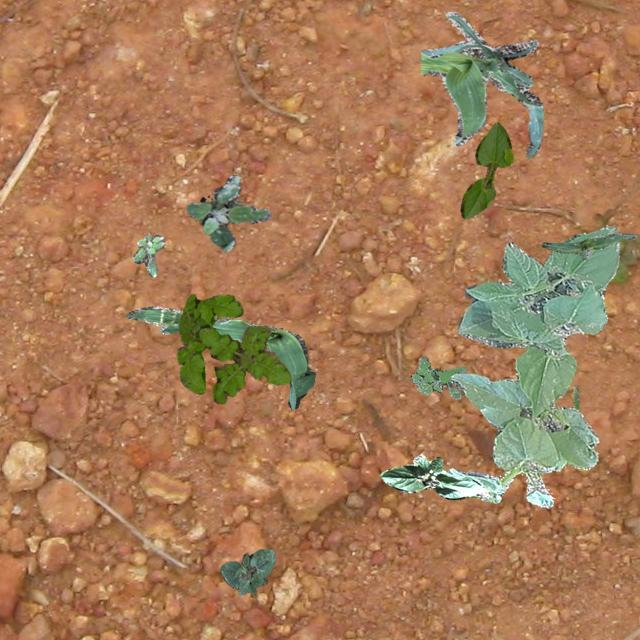crop: (446, 224, 618, 506), (124, 306, 314, 408), (420, 11, 542, 158), (459, 121, 512, 218), (378, 452, 488, 498), (540, 232, 636, 260), (218, 548, 274, 594), (570, 384, 578, 408)
weed: (176, 294, 290, 402), (186, 174, 270, 252), (410, 356, 464, 398), (132, 232, 162, 276)
